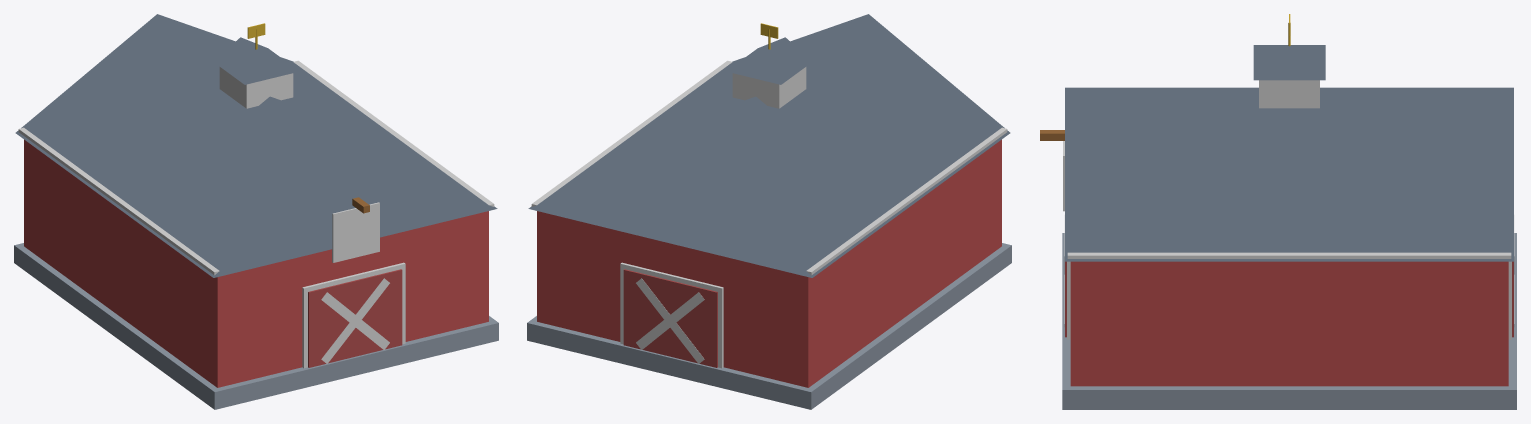
File: district-barn.glb
3 views of the same model, side by side, from view 1: azimuth 30°, elevation 25°; view 2: azimuth 150°, elevation 25°; view 3: azimuth 270°, elevation 25° (orthographic). The views are drawn at different scales.
Visible parts, largest first — view 1: Root; view 2: Root; view 3: Root.
Part boxes in pixels (bbox=[...]): Root: bbox=[14, 14, 498, 409]; Root: bbox=[527, 14, 1011, 409]; Root: bbox=[1040, 14, 1516, 409].
Bounding box in the file's own units: 13.4 × 12.45 × 17.2.
